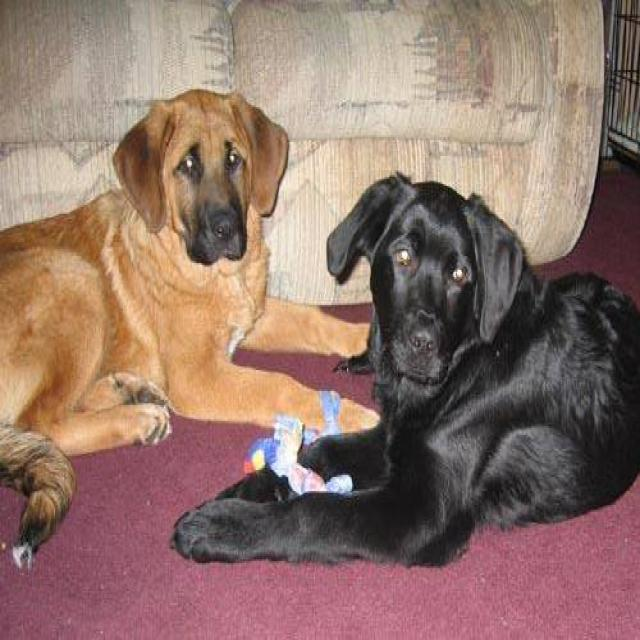dog: (169, 168, 639, 568), (0, 86, 372, 571)
